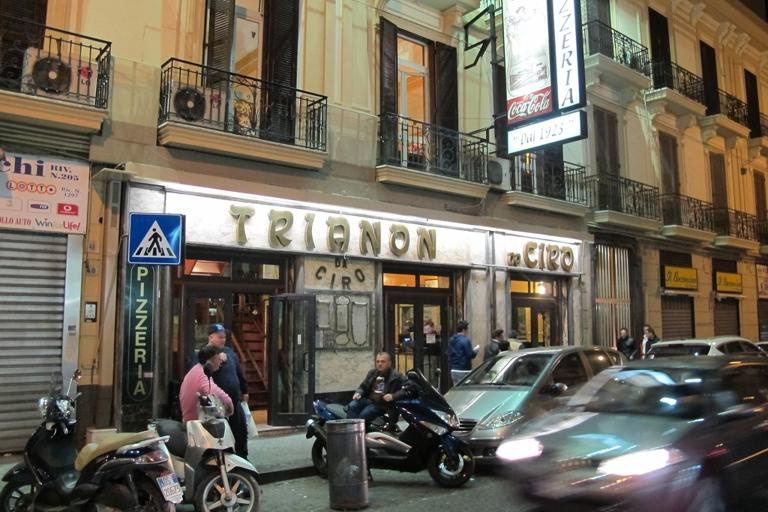non-vehicle: (0, 367, 186, 512), (303, 367, 482, 489), (137, 361, 263, 512)
